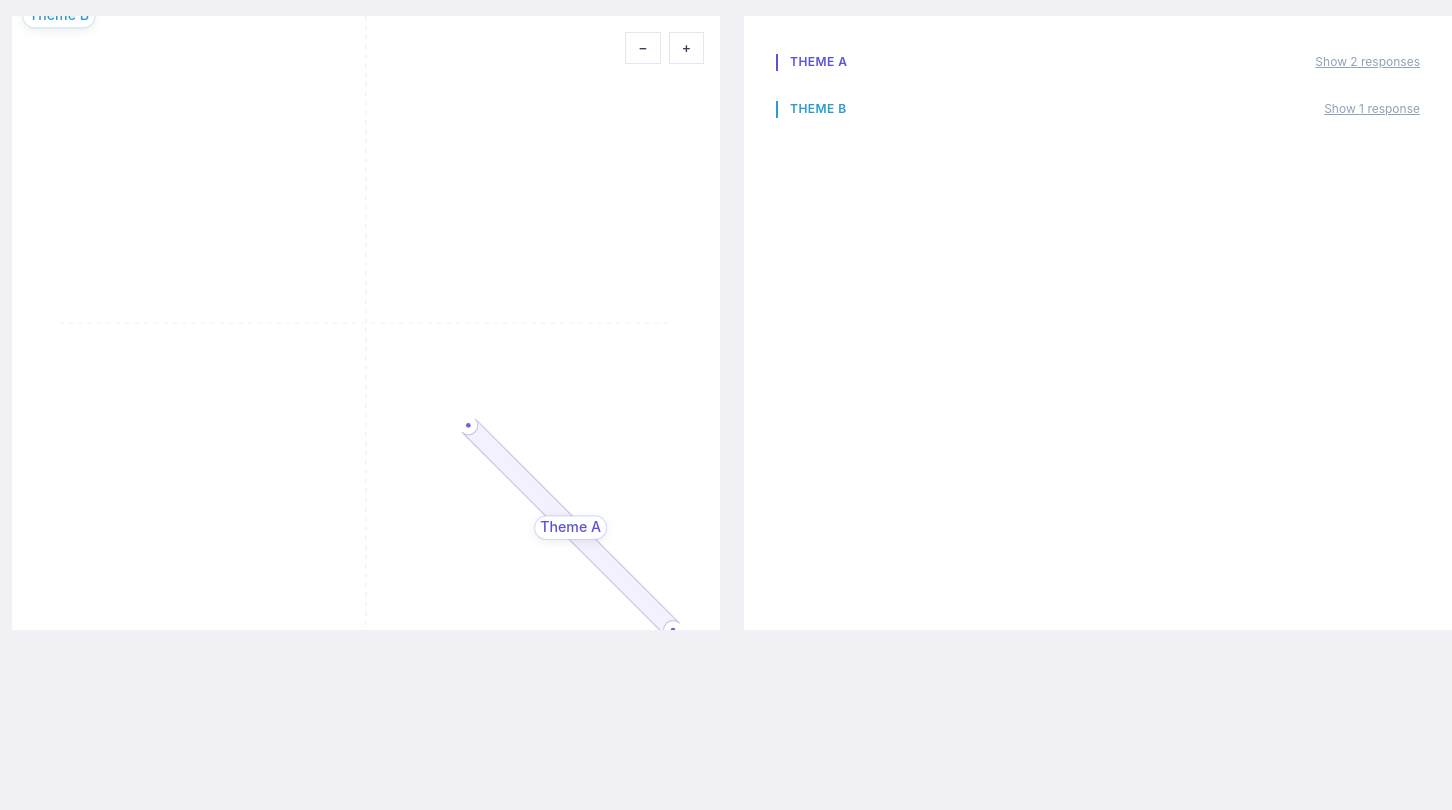
Scenario: UnderstandView theme filters › shows individual responses when a cluster is selected via 'Show X responses' button
expect the text "Theme A" is shown: met, box [790, 54, 848, 71]
Note: Click "Show 2 responses" for Theme A
Click the text "Show 2 responses" at {"x": 1368, "y": 62}, box [1315, 54, 1420, 70]
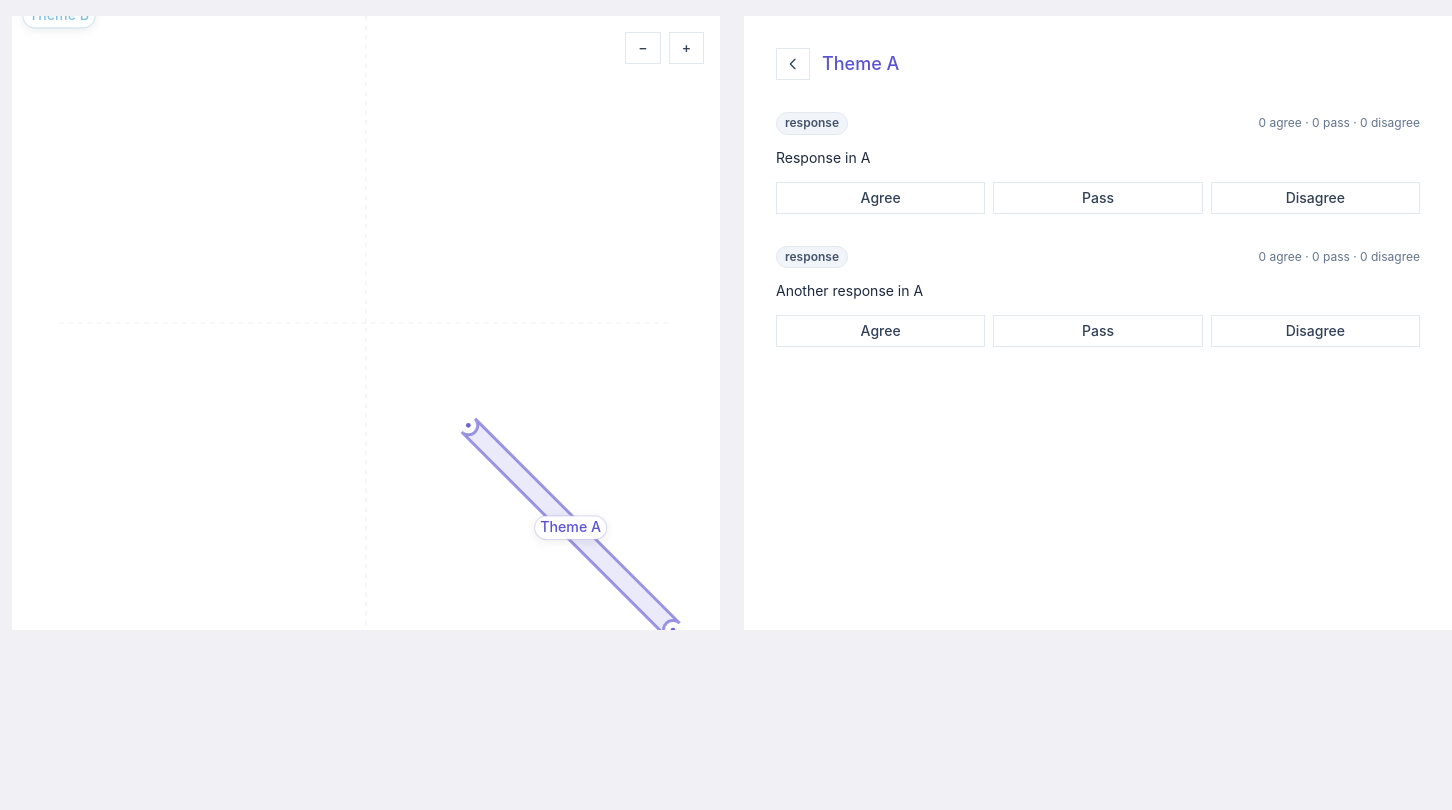
expect the text "Response in A" is shown: met, box [776, 149, 870, 166]
expect the text "Another response in A" is shown: met, box [776, 282, 923, 299]
